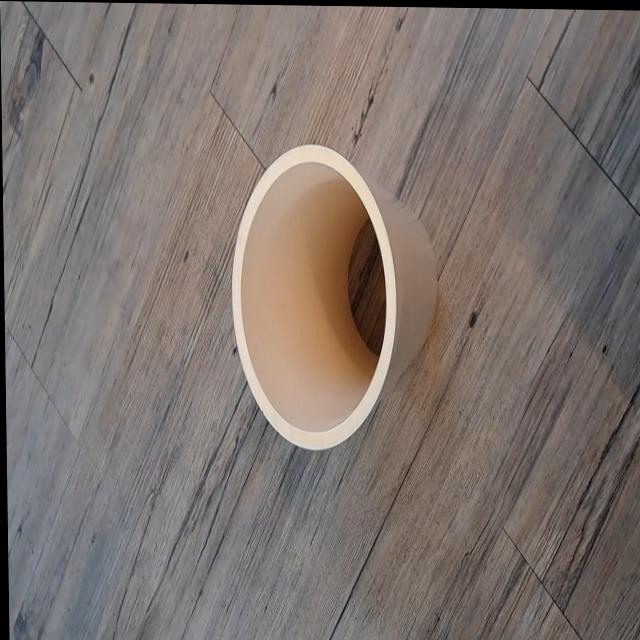CORAL: (220, 111, 462, 501)
